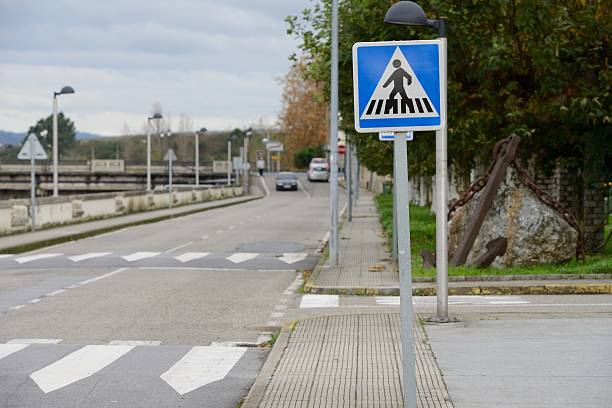yaya_gecidi_levha: (354, 46, 447, 137)
